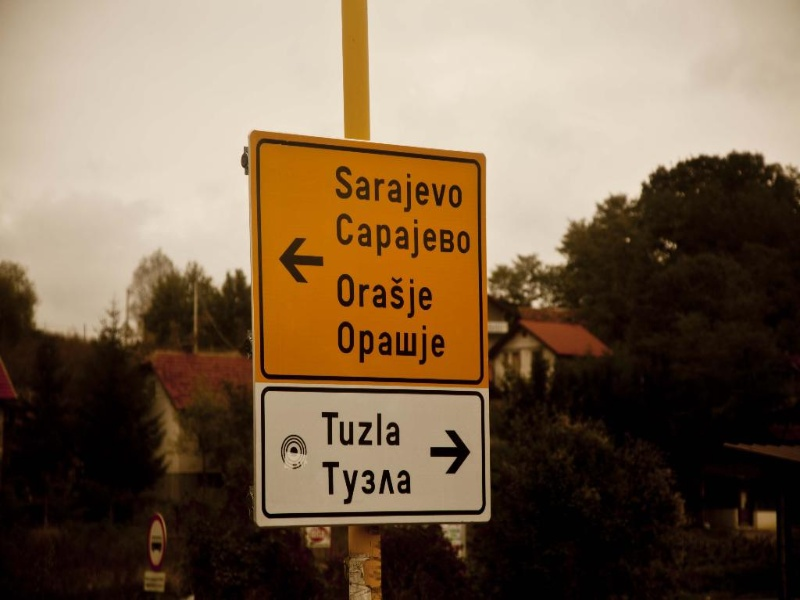left_direction: (277, 232, 327, 287)
right_direction: (425, 429, 474, 476)
